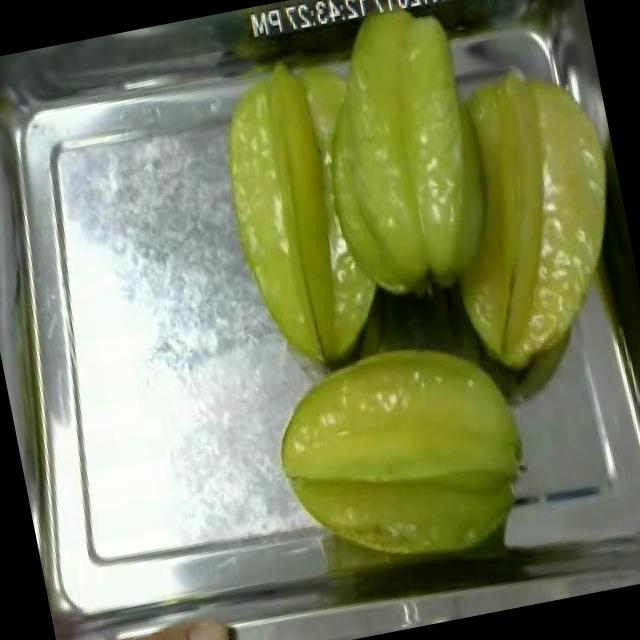fruit: (213, 0, 617, 424), (250, 305, 560, 600), (394, 38, 640, 402), (52, 585, 245, 640)
